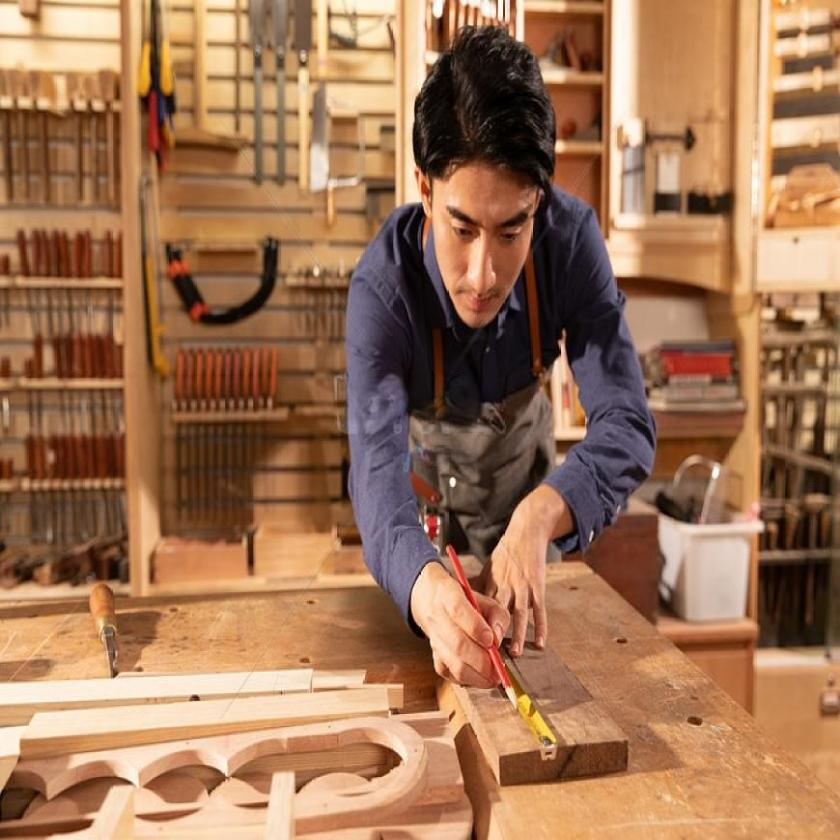Sin_casco: (411, 19, 560, 356)
